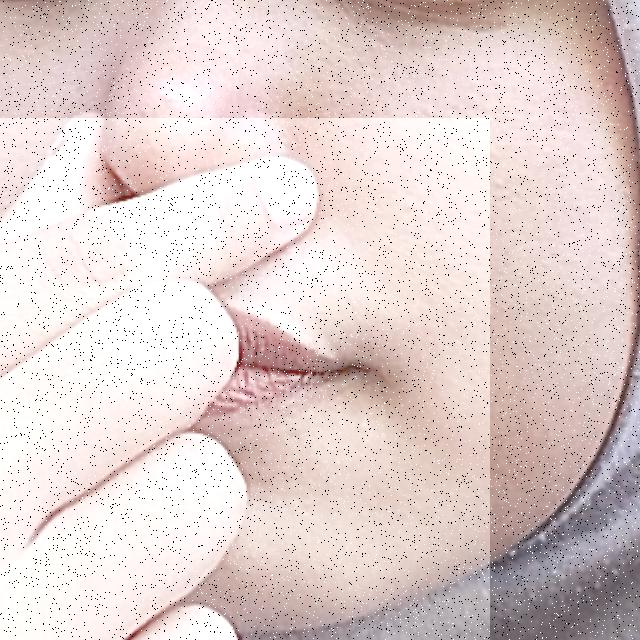bau: (0, 118, 490, 640)
